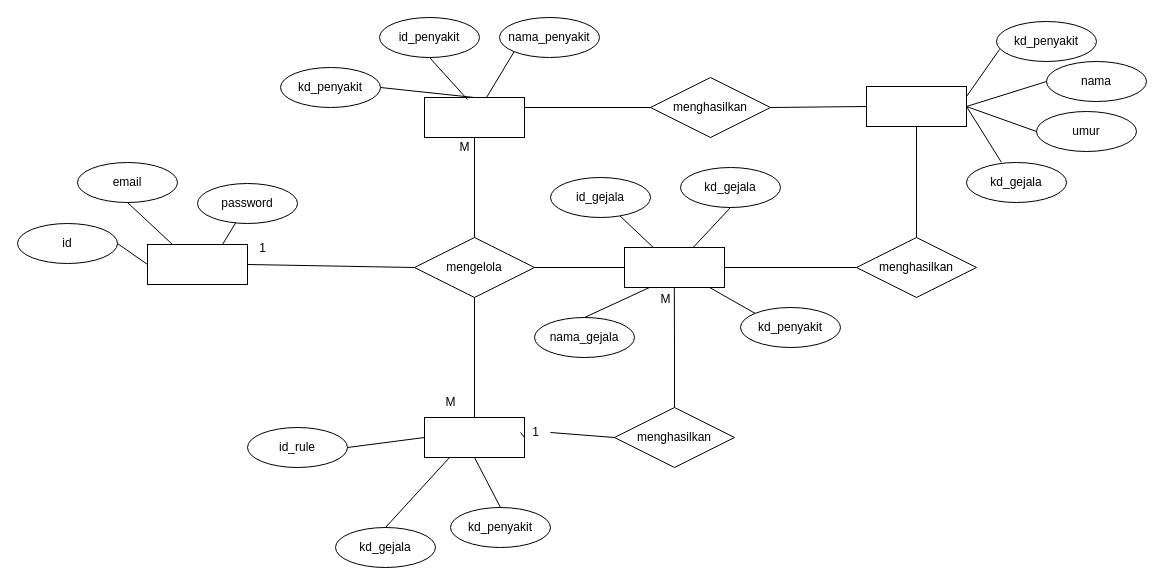
The diagram is 1164 pixels wide and 585 high, and some of its shapes have lost their labels. The shapes that lost their labels are listed below. From the top down, each one's centre as x and y in pixels, then its label:
At (474,117): "penyakit".
At (916,106): "Diagnosa".
At (197,264): "user".
At (674,267): "gejala".
At (474,437): "rule".
